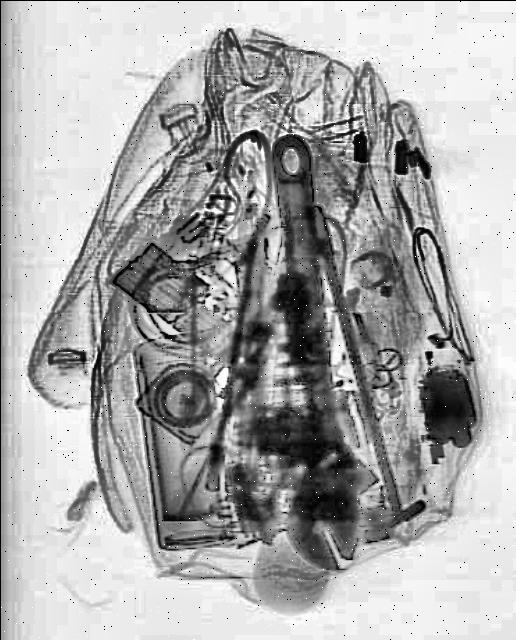Wrench: (240, 125, 386, 570)
